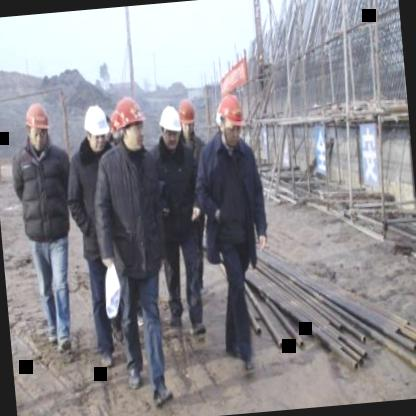helmet: (110, 94, 147, 152), (214, 90, 248, 148), (22, 98, 52, 152), (80, 102, 110, 152), (158, 103, 184, 150), (173, 96, 199, 143)
